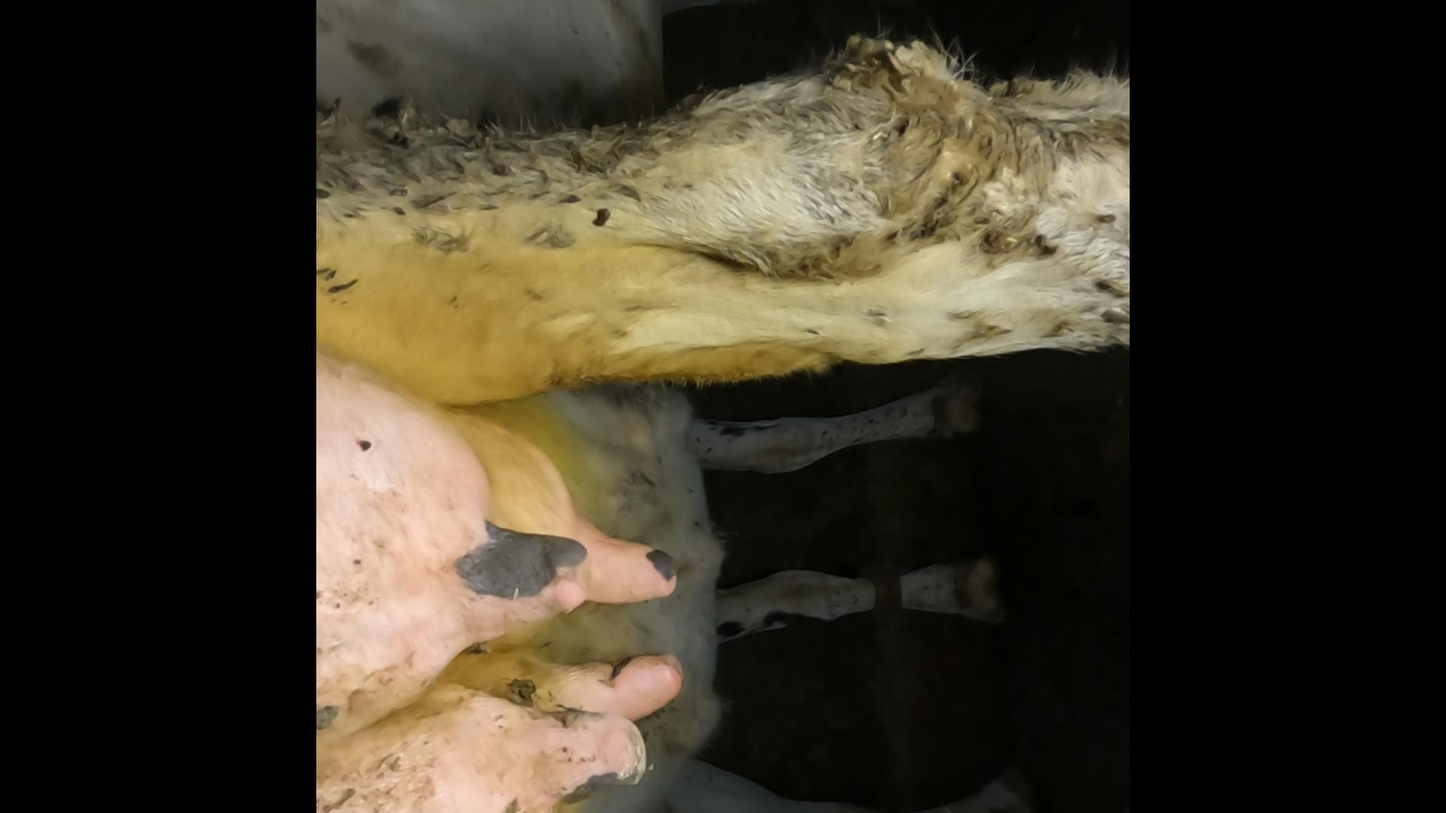Zitze: (462, 510, 610, 649), (552, 635, 694, 732), (518, 710, 647, 805), (553, 530, 688, 615)
